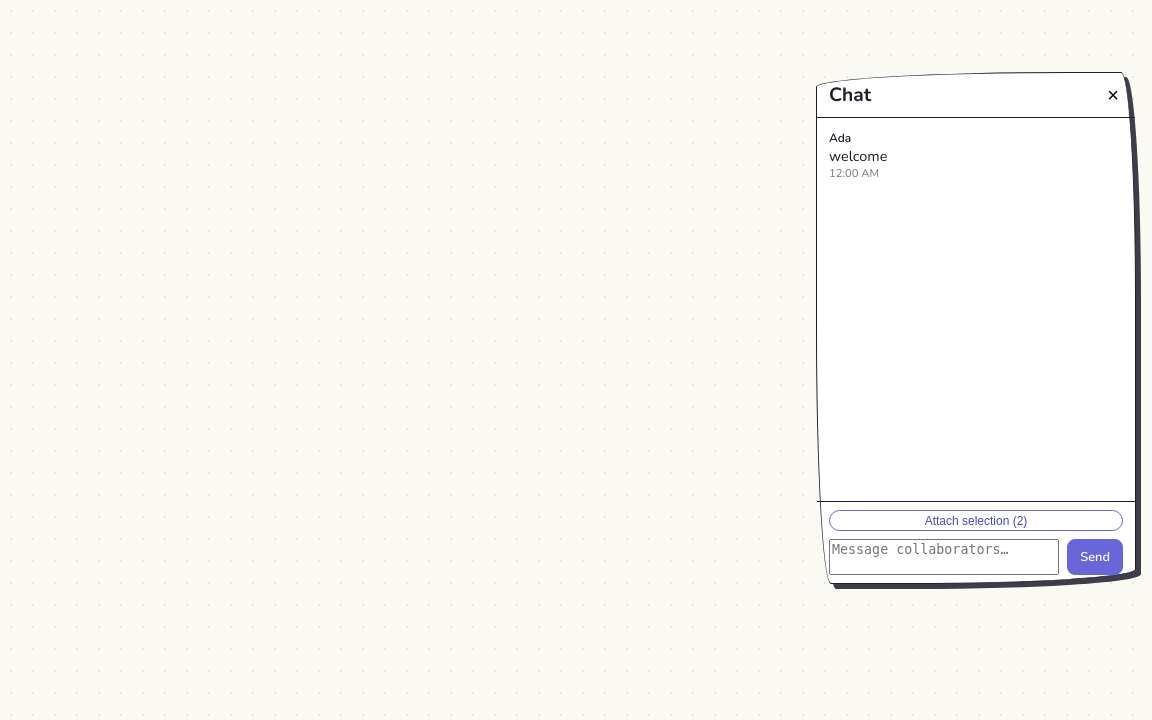
Scenario: ChatPanel › sends the recorded mentions and the attached canvas selection
The image size is (1152, 720).
Expected: the text "welcome" is shown, x1=829 y1=146 x2=887 y2=166
Type "@Ad" into the text box labelled "Message" at coordinates (944, 557), box x1=829 y1=539 x2=1059 y2=575
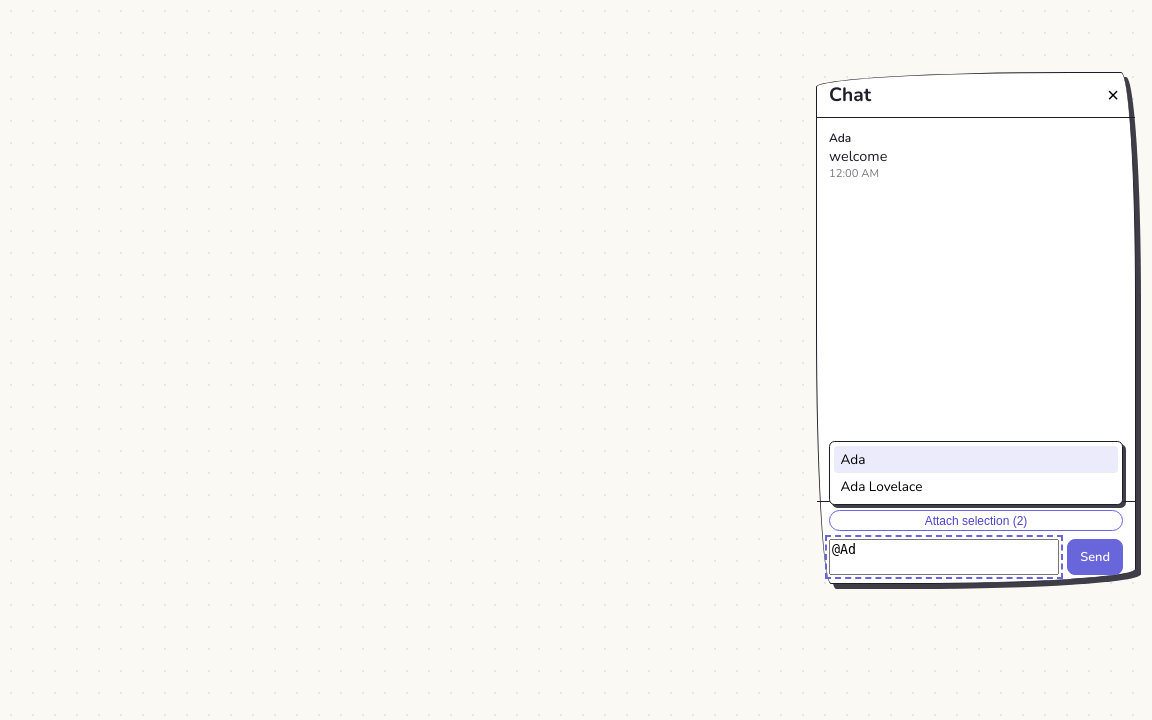
Click the button "Ada" at coordinates (853, 460), box x1=834 y1=446 x2=1118 y2=473
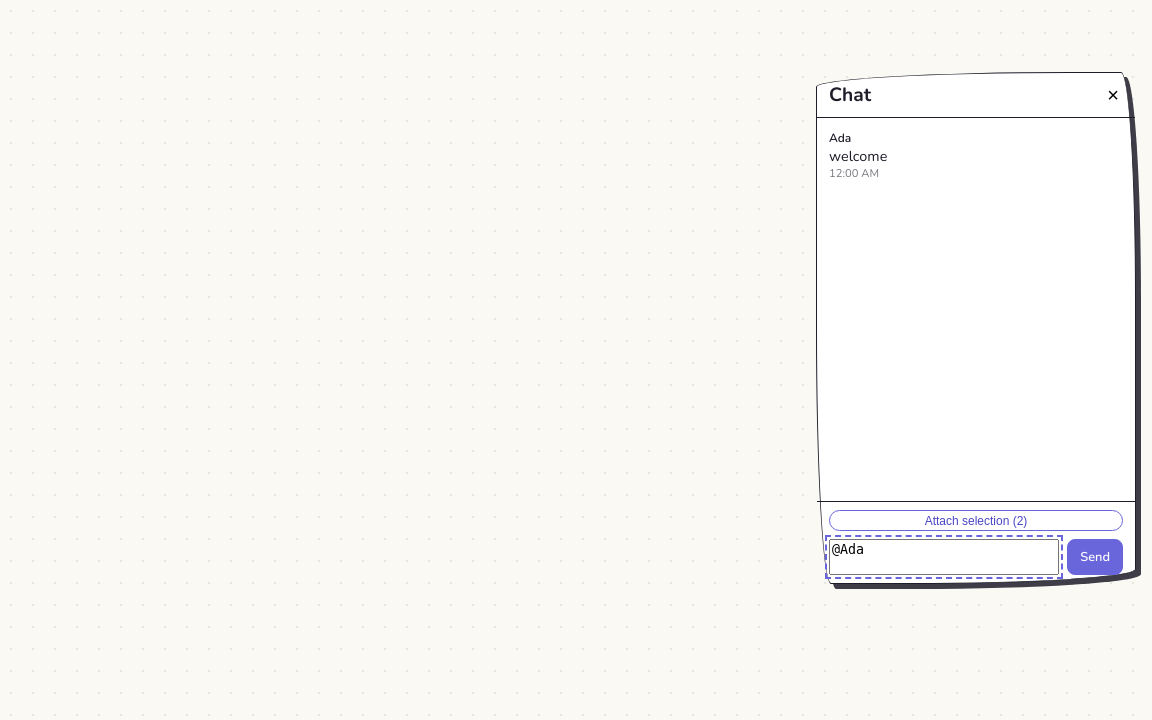
Type "look at this" into the text box named "Message" at coordinates (944, 557), box x1=829 y1=539 x2=1059 y2=575
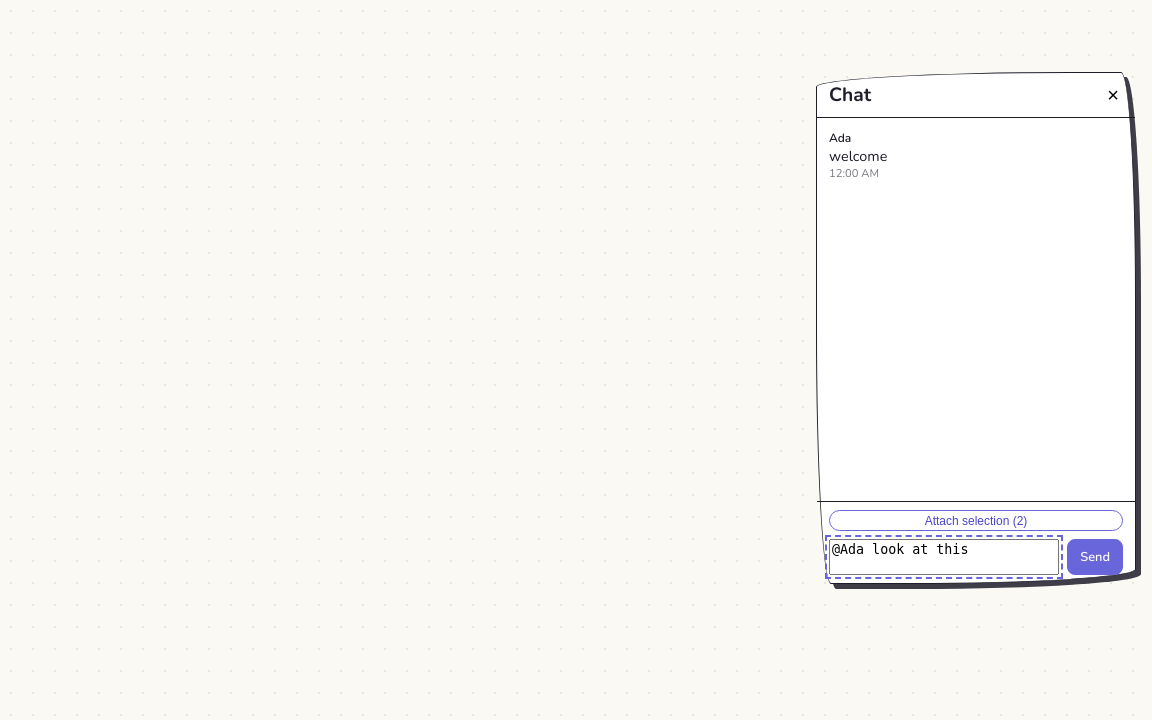
Click the button "Attach selection (2)" at coordinates (976, 521), box x1=829 y1=510 x2=1123 y2=531
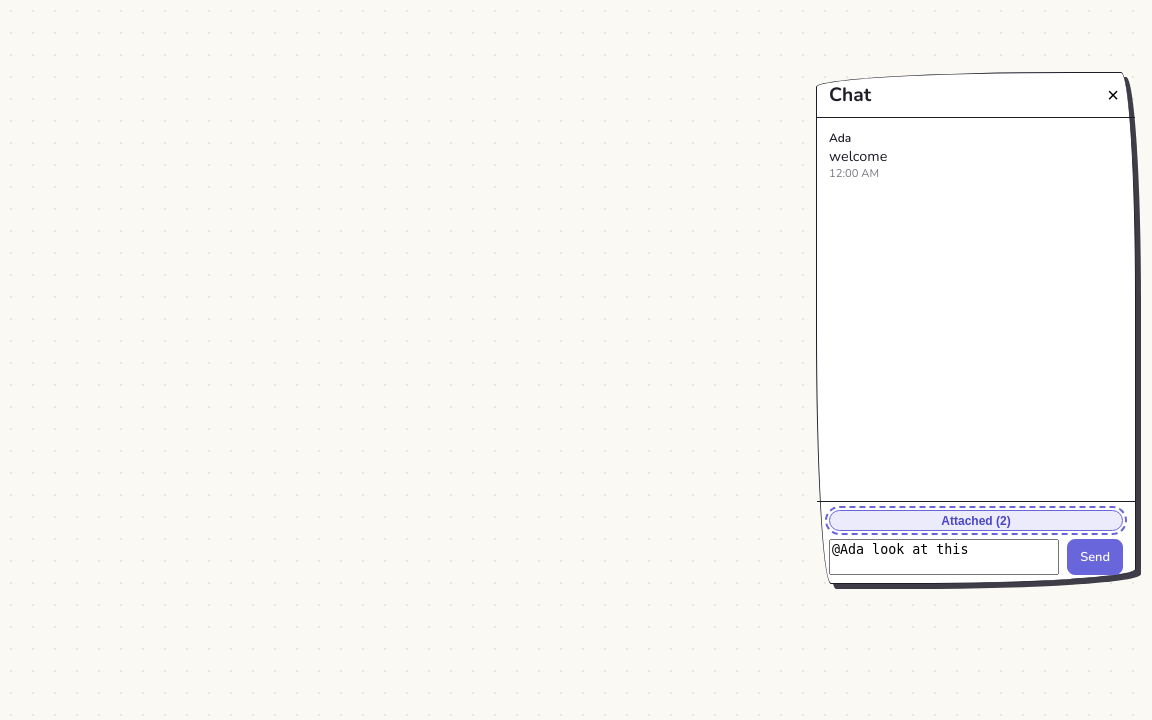
Click the button "Send" at coordinates (1095, 557), box x1=1067 y1=539 x2=1123 y2=575
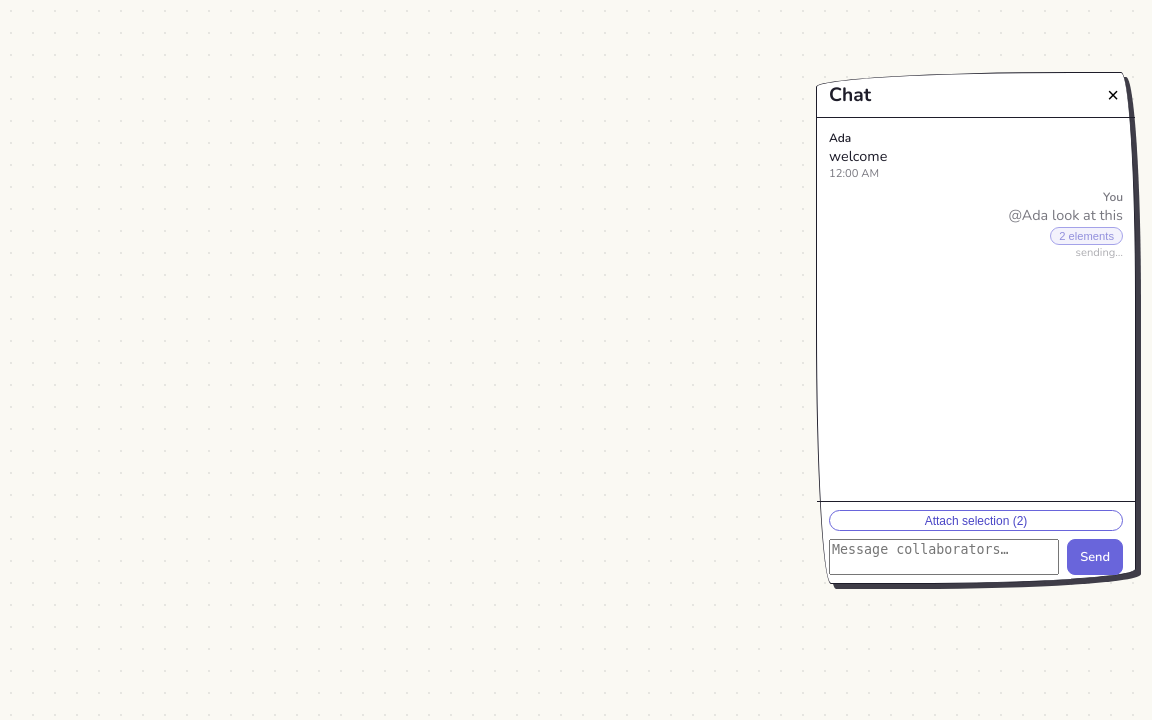
Result: the text box labelled "Message" is empty at x1=829 y1=539 x2=1059 y2=575
Result: the button "Attach selection (2)" is shown at x1=829 y1=510 x2=1123 y2=531
Result: the button "2 elements" is shown at x1=1050 y1=227 x2=1123 y2=245
